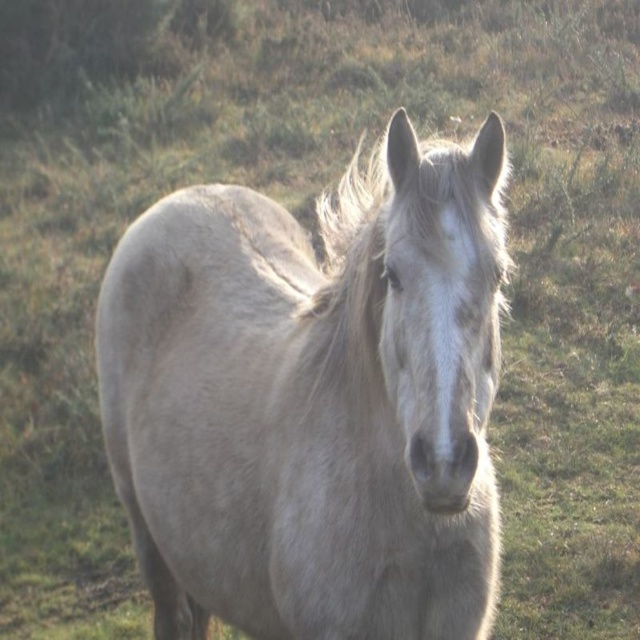Horse: (96, 107, 519, 640)
